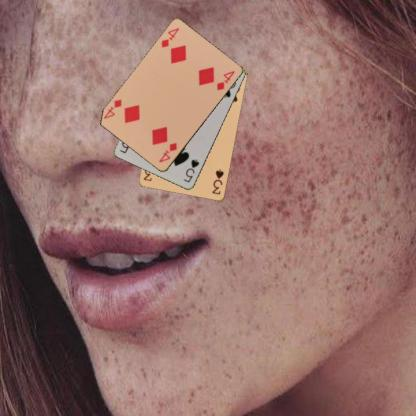3s: (210, 167, 225, 196)
4d: (156, 140, 178, 164), (159, 26, 180, 49)
5s: (181, 156, 200, 184)
